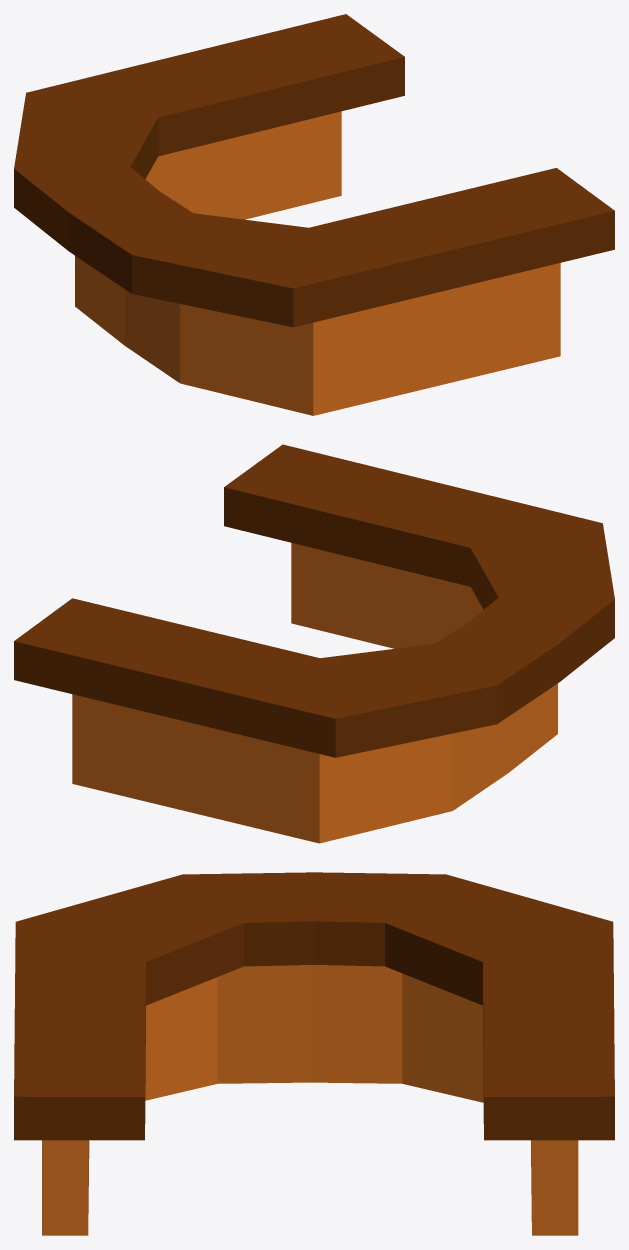
The model's file is BarDesk.fbx.
3 views of the same model, one above another, from view 1: azimuth 30°, elevation 25°; view 2: azimuth 150°, elevation 25°; view 3: azimuth 270°, elevation 25° (orthographic). The views are drawn at different scales.
Parts seen in each view (by area): view 1: Cube.001; view 2: Cube.001; view 3: Cube.001.
Boxes of the visible parts, x1,y1,x2,y2 form: Cube.001: (14, 14, 614, 415); Cube.001: (14, 444, 614, 843); Cube.001: (14, 872, 614, 1235).
Size of the model in its own units: 5.21 by 1.75 by 5.89.
